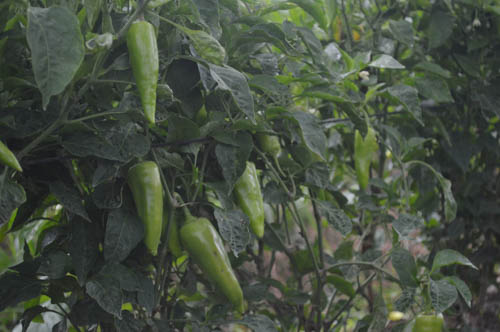ChiliPepper: (181, 218, 244, 310), (125, 23, 163, 126), (126, 162, 163, 255), (233, 163, 263, 236), (352, 128, 371, 189)
